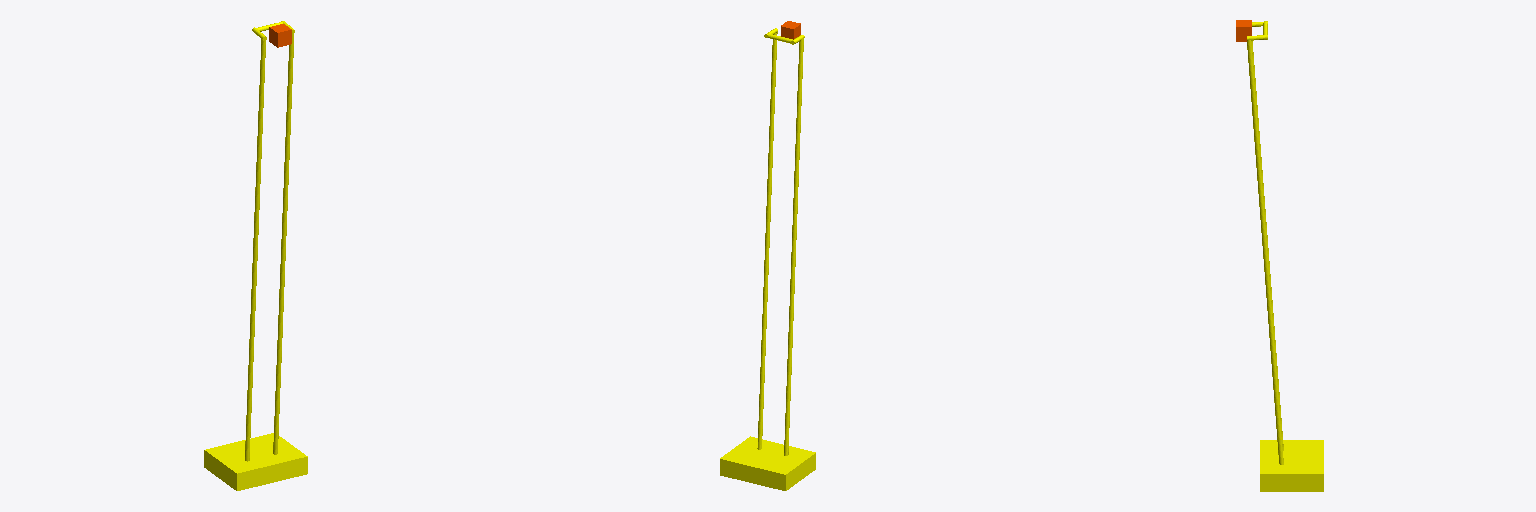
URDF robot description (box_dummy):
<?xml version="1.0"?>
<robot name="box_dummy">
  <material name="black">
    <color rgba="0.0 0.0 0.0 1.0"/>
  </material>
  <material name="orange">
    <color rgba="1.0 0.4 0.0 1.0"/>
  </material>

  <material name="transparency">
    <color rgba="0 0 0 0"/>
  </material>



  <link name="world" />
  <joint name="world_to_base_link=" type="fixed">
    <parent link="world"/>
    <child link="base"/>
    <origin rpy="-1.5707 0 0" xyz="0 0 -0.1445"/>
  </joint>

  <link name="base">
    <visual>
        <geometry>
            <box size="0.05 0.012 0.04"/>
        </geometry>
        <origin rpy="0 0 0" xyz="0 0 0"/>
        <material name="yellow">
            <color rgba="1 1 0 1"/>
        </material>
    </visual>
    <collision>
        <geometry>
          <box size="0.05 0.012 0.04"/>
        </geometry>
        <origin rpy="0 0 0" xyz="0 0 0"/>
    </collision>
    <inertial>
      <mass value="1"/>
      <inertia ixx="1.0" ixy="0.0" ixz="0.0" iyy="1.0" iyz="0.0" izz="1.0"/>       
    </inertial>
  </link>

  <!-- gripper contact point -->
  <link name="tool">
    <inertial>
      <mass value="0.0"/>
      <origin rpy="0 0 0" xyz="0.0 0.0 0.0"/>
      <inertia ixx="0.0" ixy="0.0" ixz="0.0" iyy="0.0" iyz="0.0" izz="0.0"/>
    </inertial>
    <visual>
      <geometry>
        <box size="0.01 0.01 0.01"/>
      </geometry>
      <origin rpy="0 0 0" xyz="0 0 0"/>
       <!-- set contact point color -->
      <material name="orange"/>
    </visual>
  </link>
  <!-- set gripper contact point -->
  <joint name="gripper_contact_point" type="fixed">
    <!-- origin rpy="0 0 0" xyz="0 -0.3 -0.0165" -->
    <origin rpy="0 0 0" xyz="0 -0.3 -0.03"/>
    <parent link="base"/>
    <child link="tool"/>
  </joint>

  <link name="left_cylinder">
   <visual>
        <geometry>
          <cylinder radius="0.0015" length="0.3"/>
        </geometry>
        <origin rpy="0 0 0" xyz="0 0 0"/>
        <material name="yellow">
            <color rgba="1 1 0 1"/>
        </material>
    </visual>
    <collision>
        <geometry>
          <cylinder radius="0.0015" length="0.3"/>
        </geometry>
        <origin rpy="0 0 0" xyz="0 0 0"/>
    </collision>
    <inertial>
      <mass value="1"/>
      <inertia ixx="1.0" ixy="0.0" ixz="0.0" iyy="1.0" iyz="0.0" izz="1.0"/>       
    </inertial>
  </link>

  

  <joint name="base_to_left_cylinder" type="fixed">
    <parent link="base"/>
    <child link="left_cylinder"/>
    <origin rpy="1.64 0 0" xyz="-0.01 -0.15 -0.0165"/>
  </joint>

  <link name="right_cylinder">
   <visual>
        <geometry>
          <cylinder radius="0.0015" length="0.3"/>
        </geometry>
        <origin rpy="0 0 0" xyz="0 0 0"/>
        <material name="yellow">
            <color rgba="1 1 0 1"/>
        </material>
    </visual>
    <collision>
        <geometry>
          <cylinder radius="0.0015" length="0.3"/>
        </geometry>
        <origin rpy="0 0 0" xyz="0 0 0"/>
    </collision>
    <inertial>
      <mass value="1"/>
      <inertia ixx="1.0" ixy="0.0" ixz="0.0" iyy="1.0" iyz="0.0" izz="1.0"/>       
    </inertial>
  </link>

  

  <joint name="base_to_right_cylinder" type="fixed">
    <parent link="base"/>
    <child link="right_cylinder"/>

    <origin rpy="1.64 0 0" xyz="0.01 -0.15 -0.0165"/>
  </joint>


  <link name="left2_cylinder">
   <visual>
        <geometry>
          <cylinder radius="0.0015" length="0.013"/>
        </geometry>
        <origin rpy="0 0 0" xyz="0 0 0"/>
        <material name="yellow">
            <color rgba="1 1 0 1"/>
        </material>
    </visual>
    <collision>
        <geometry>
          <cylinder radius="0.0015" length="0.013"/>
        </geometry>
        <origin rpy="0 0 0" xyz="0 0 0"/>
    </collision>
    <inertial>
      <mass value="1"/>
      <inertia ixx="1.0" ixy="0.0" ixz="0.0" iyy="1.0" iyz="0.0" izz="1.0"/>       
    </inertial>
  </link>

  

  <joint name="left_cylinder_to_left2_cylinder" type="fixed">
    <parent link="left_cylinder"/>
    <child link="left2_cylinder"/>
    <origin rpy="1.5707 0 0" xyz="0 0.00525 0.15"/>
  </joint>



  <link name="right2_cylinder">
   <visual>
        <geometry>
          <cylinder radius="0.0015" length="0.013"/>
        </geometry>
        <origin rpy="0 0 0" xyz="0 0 0"/>
        <material name="yellow">
            <color rgba="1 1 0 1"/>
        </material>
    </visual>
    <collision>
        <geometry>
          <cylinder radius="0.0015" length="0.013"/>
        </geometry>
        <origin rpy="0 0 0" xyz="0 0 0"/>
    </collision>
    <inertial>
      <mass value="1"/>
      <inertia ixx="1.0" ixy="0.0" ixz="0.0" iyy="1.0" iyz="0.0" izz="1.0"/>       
    </inertial>
  </link>

  

  <joint name="right_cylinder_to_right2_cylinder" type="fixed">
    <parent link="right_cylinder"/>
    <child link="right2_cylinder"/>
    <origin rpy="1.5707 0 0" xyz="0 0.00525 0.15"/>
  </joint>


  <link name="end_cylinder">
   <visual>
        <geometry>
          <cylinder radius="0.0015" length="0.02"/>
        </geometry>
        <origin rpy="0 0 0" xyz="0 0 0"/>
        <material name="yellow">
            <color rgba="1 1 0 1"/>
        </material>
    </visual>
    <collision>
        <geometry>
          <cylinder radius="0.0015" length="0.018"/>
        </geometry>
        <origin rpy="0 0 0" xyz="0 0 0"/>
    </collision>
    <inertial>
      <mass value="1"/>
      <inertia ixx="1.0" ixy="0.0" ixz="0.0" iyy="1.0" iyz="0.0" izz="1.0"/>       
    </inertial>
  </link>

  

  <joint name="right2_cylinder_to_end_cylinder" type="fixed">
    <parent link="right2_cylinder"/>
    <child link="end_cylinder"/>
    <origin rpy="0 1.5707 0" xyz="-0.01 0 -0.005"/>
  </joint>
</robot>

--- Render facts (derived) ---
3 views of the same robot in one strip: view 1: azimuth 30°, elevation 25°; view 2: azimuth 150°, elevation 25°; view 3: azimuth 270°, elevation 25° (orthographic).
Model box_dummy with 8 links and 7 joints (7 fixed), rooted at world, posed every joint at zero.
Links seen in each view (by area): view 1: base, left_cylinder, right_cylinder; view 2: base, left_cylinder, right_cylinder; view 3: base, right_cylinder.
Boxes of the visible links, <box> form: base: <box>204,433,307,490</box>; left_cylinder: <box>245,39,265,461</box>; right_cylinder: <box>273,32,293,454</box>; base: <box>720,436,815,490</box>; left_cylinder: <box>784,38,803,455</box>; right_cylinder: <box>757,32,777,449</box>; base: <box>1260,440,1323,491</box>; right_cylinder: <box>1247,40,1283,464</box>.
Bounding box of the posed robot: 0.05 × 0.055 × 0.311 m (x, y, z).
Geometry: primitives only (box / cylinder / sphere), no mesh files.
